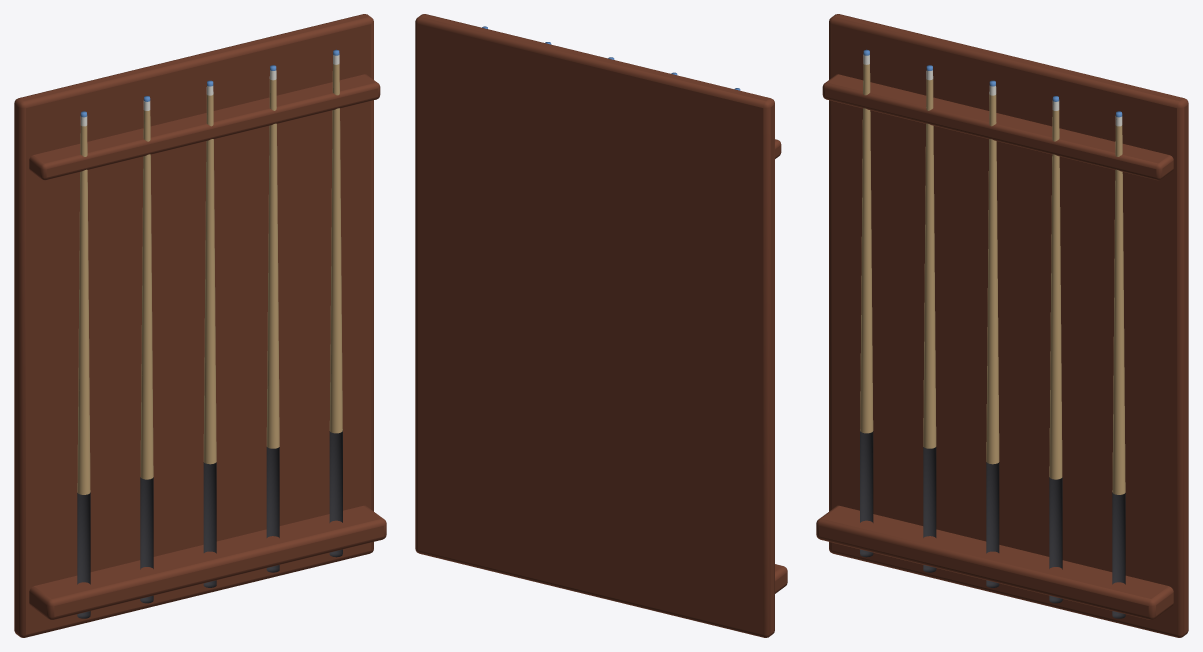
Rendered from cue_rack.glb.
3 views of the same model, side by side, from view 1: azimuth 30°, elevation 25°; view 2: azimuth 150°, elevation 25°; view 3: azimuth 330°, elevation 25° (orthographic).
Visible parts, largest first — view 1: mahogany_flat, cue_maple, cue_wrap; view 2: mahogany_flat; view 3: mahogany_flat, cue_maple, cue_wrap.
Boxes of the visible parts, x1=… form: mahogany_flat: x1=14, y1=14, x2=386, y2=637; cue_maple: x1=77, y1=64, x2=342, y2=494; cue_wrap: x1=77, y1=430, x2=342, y2=618; mahogany_flat: x1=415, y1=14, x2=787, y2=637; mahogany_flat: x1=816, y1=14, x2=1188, y2=637; cue_maple: x1=860, y1=64, x2=1125, y2=494; cue_wrap: x1=860, y1=430, x2=1125, y2=618.
Bounding box in the file's own units: 0.9 × 1.3 × 0.13.
